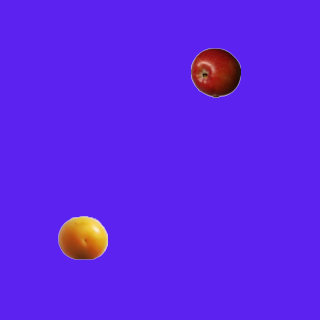Apple Braeburn: (190, 47, 240, 97)
Cherry Wax Yellow: (57, 212, 107, 262)
